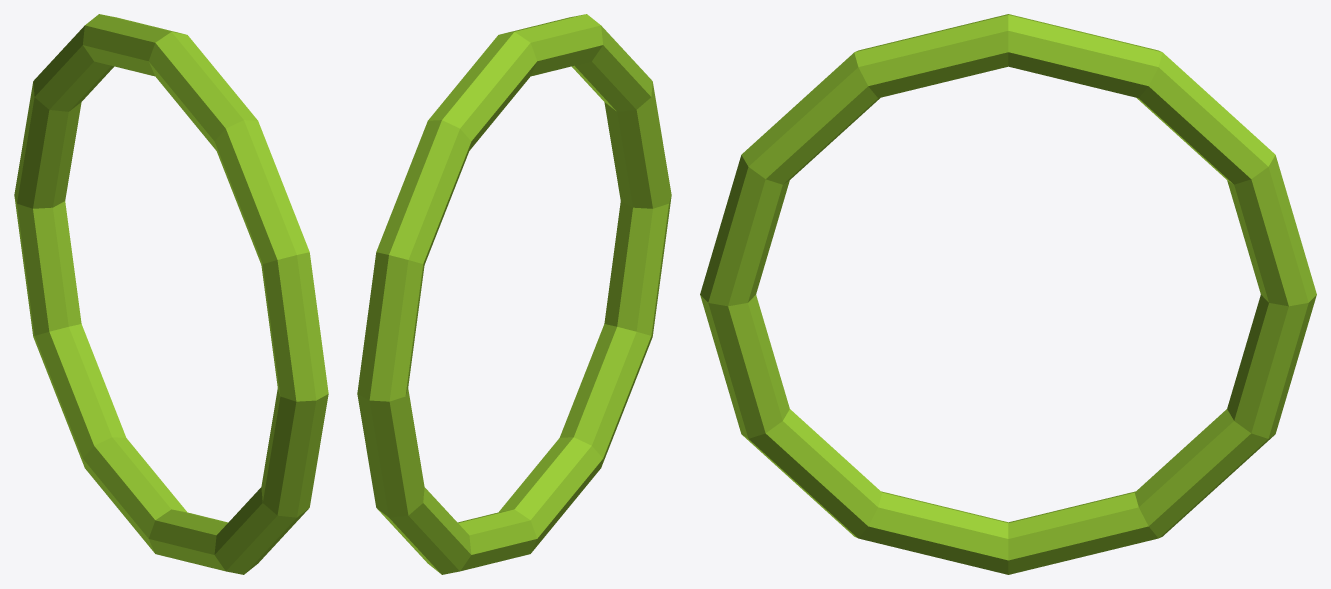
Rendered from race_waypoint.obj.
3 views of the same model, side by side, from view 1: azimuth 30°, elevation 25°; view 2: azimuth 150°, elevation 25°; view 3: azimuth 270°, elevation 25° (orthographic). The views are drawn at different scales.
Parts seen in each view (by area): view 1: Torus; view 2: Torus; view 3: Torus.
Part boxes in pixels (<box>): Torus: <box>14,14,328,574</box>; Torus: <box>357,14,671,574</box>; Torus: <box>700,14,1316,574</box>.
Bounding box in the file's own units: 0.5 × 5.5 × 5.5.
